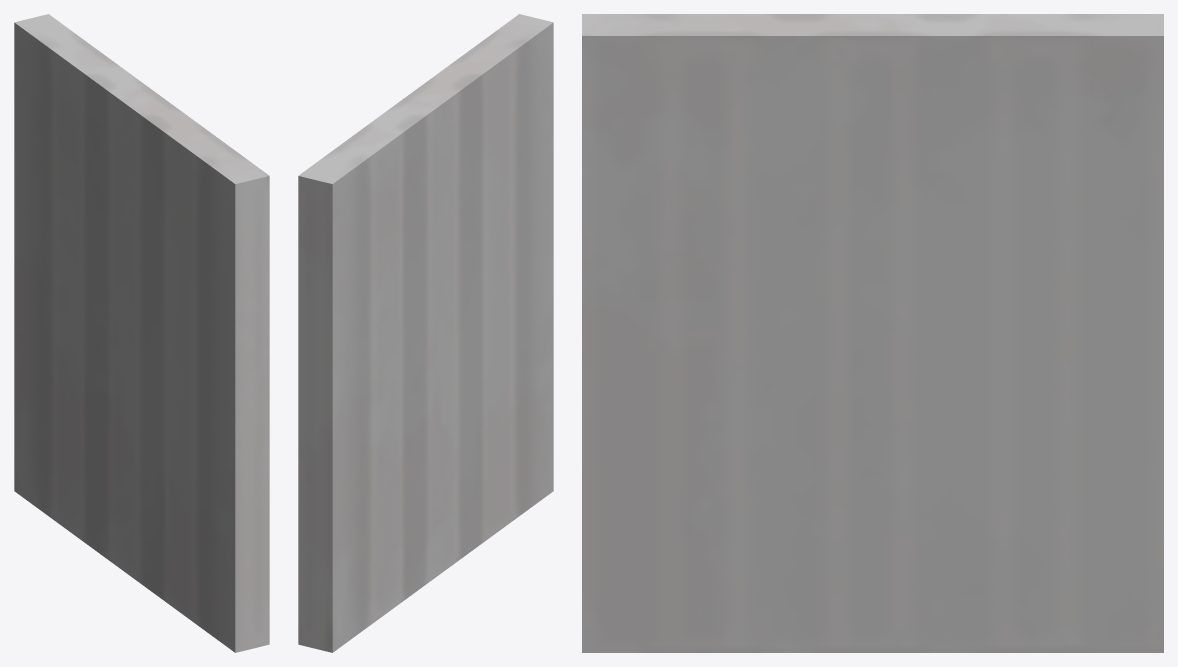
The model's file is SM_Container_Back.fbx.
3 renders of one model, left to right at view 1: azimuth 30°, elevation 25°; view 2: azimuth 150°, elevation 25°; view 3: azimuth 270°, elevation 25°, orthographic. The views are drawn at different scales.
Parts seen in each view (by area): view 1: SM_Container_Back; view 2: SM_Container_Back; view 3: SM_Container_Back.
Part boxes in pixels (box(x1,y1,x2,y2)): SM_Container_Back: box(14, 14, 269, 652); SM_Container_Back: box(298, 14, 553, 652); SM_Container_Back: box(582, 14, 1163, 652).
Bounding box in the file's own units: 0.178 × 2.32 × 1.98.
